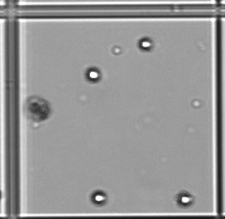Dead Cell: (27, 98, 48, 121)
Living Cell: (176, 190, 193, 206), (91, 190, 106, 204), (86, 67, 100, 81), (139, 37, 153, 51)
